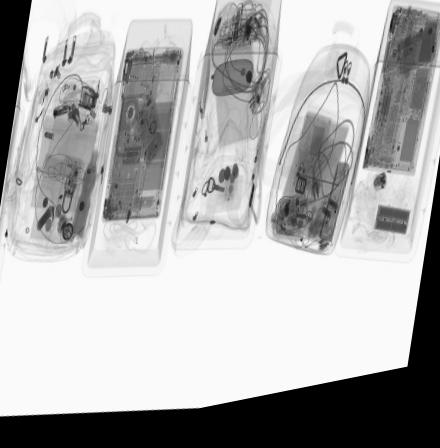Powerbank: (373, 219, 412, 252)
